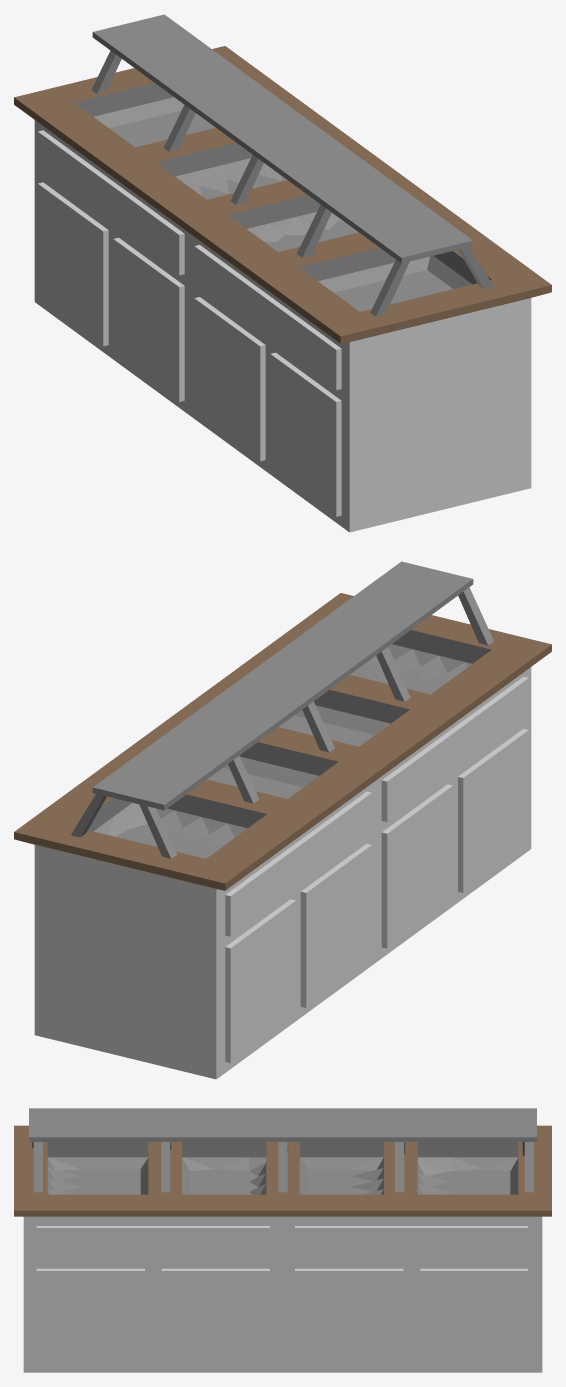
Rendered from Buffa.fbx.
3 views of the same model, one above another, from view 1: azimuth 30°, elevation 25°; view 2: azimuth 150°, elevation 25°; view 3: azimuth 270°, elevation 25° (orthographic). The views are drawn at different scales.
Visible parts, largest first — view 1: Plane.001; view 2: Plane.001; view 3: Plane.001.
Boxes of the visible parts, box(x1,y1,x2,y2) form: Plane.001: box(14, 14, 551, 532); Plane.001: box(14, 561, 551, 1079); Plane.001: box(14, 1108, 551, 1372).
Bounding box in the file's own units: 232 × 272 × 622.
